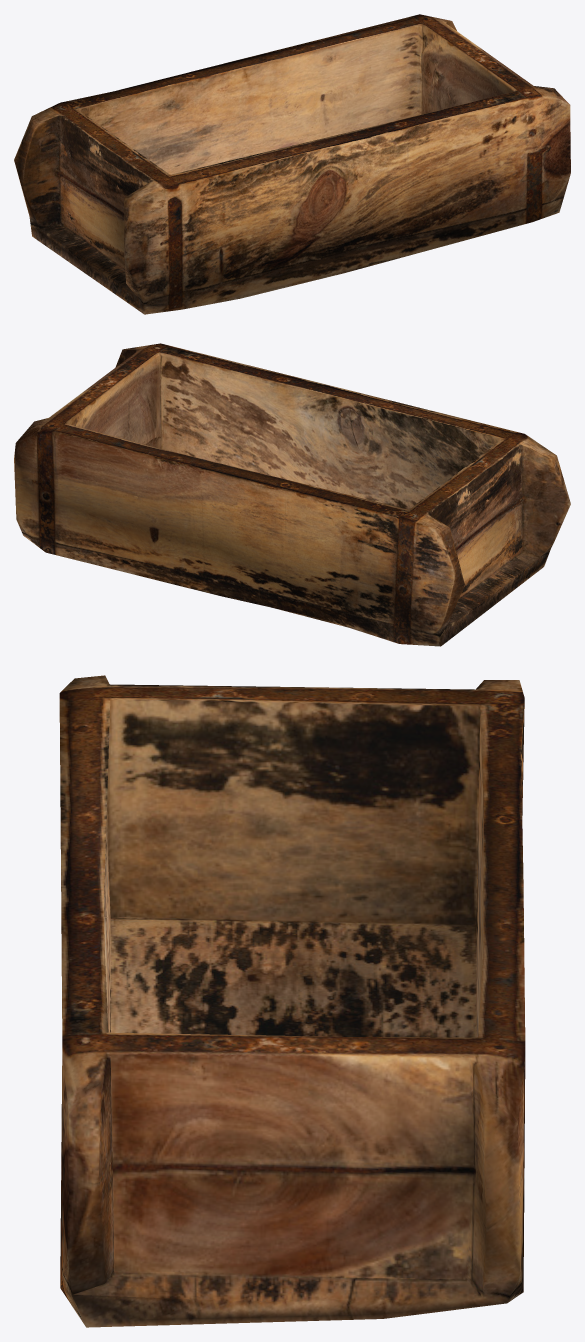
The model's file is old_wooden_box_tmdmebrjw_low.glb.
3 views of the same model, one above another, from view 1: azimuth 30°, elevation 25°; view 2: azimuth 150°, elevation 25°; view 3: azimuth 270°, elevation 25° (orthographic). The views are drawn at different scales.
Parts seen in each view (by area): view 1: tmdmebrjw_LOD0_TIER3_000; view 2: tmdmebrjw_LOD0_TIER3_000; view 3: tmdmebrjw_LOD0_TIER3_000.
Boxes of the visible parts, x1=… form: tmdmebrjw_LOD0_TIER3_000: x1=14, y1=14, x2=570, y2=314; tmdmebrjw_LOD0_TIER3_000: x1=14, y1=343, x2=570, y2=646; tmdmebrjw_LOD0_TIER3_000: x1=59, y1=675, x2=525, y2=1327.
Bounding box in the file's own units: 0.3176 × 0.0887 × 0.1413.
Materials: 1 (1 with a texture image).
